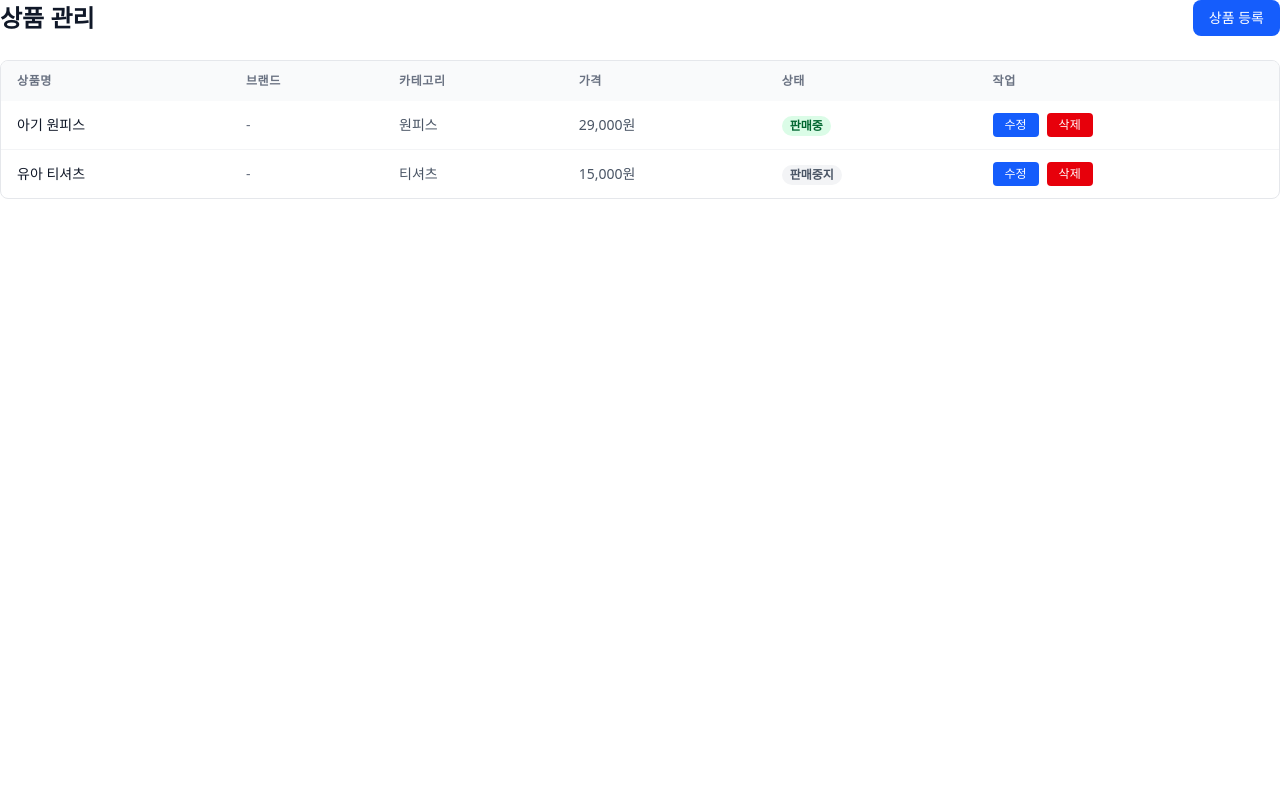
Test: AdminProductsPage › 상품 등록 폼 › 기본 가격이 비어 있으면 유효성 오류를 표시한다
Click the button "상품 등록".
click(1236, 18)  # box [1193, 0, 1279, 36]
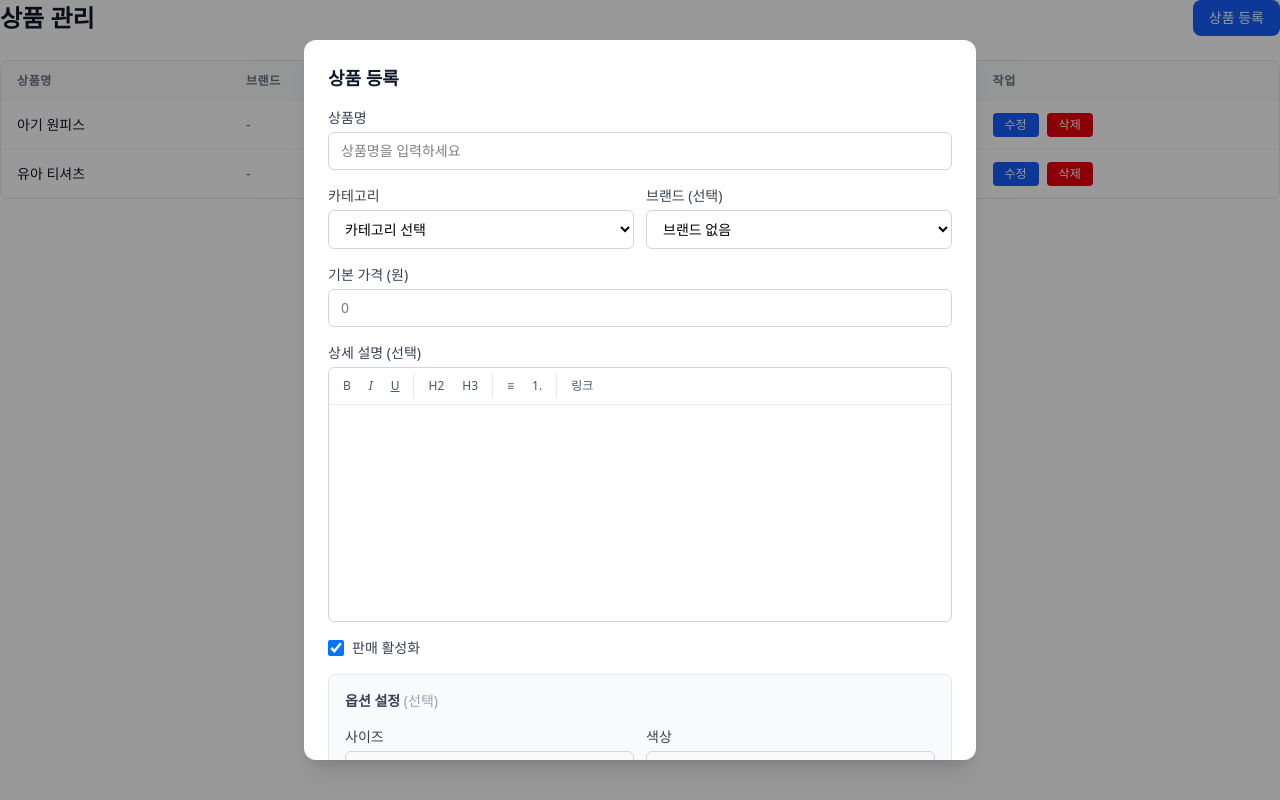
Type "테스트 상품" into the field labelled "상품명".
click(640, 151); type("테스트 상품")  # box [328, 132, 952, 170]
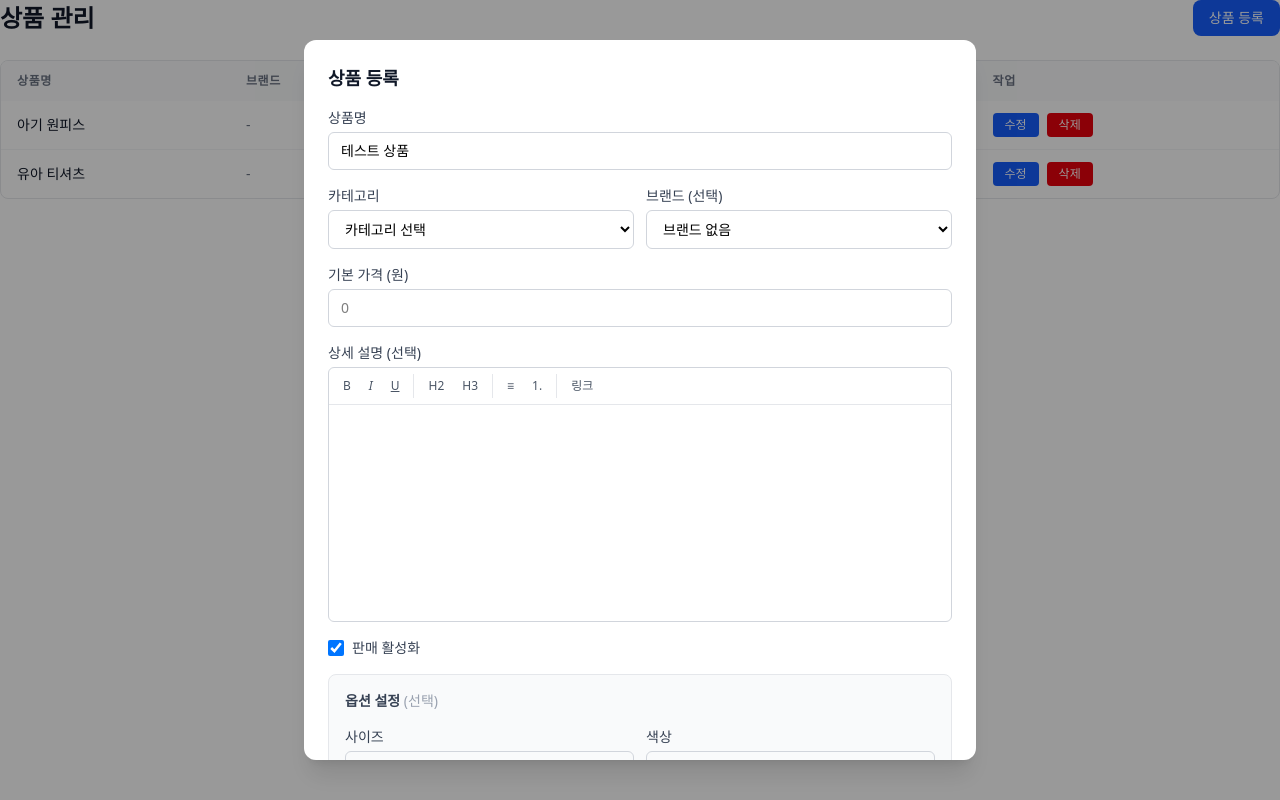
Select "원피스" in the dropdown labelled "카테고리" at (481, 230), box [328, 210, 634, 249]
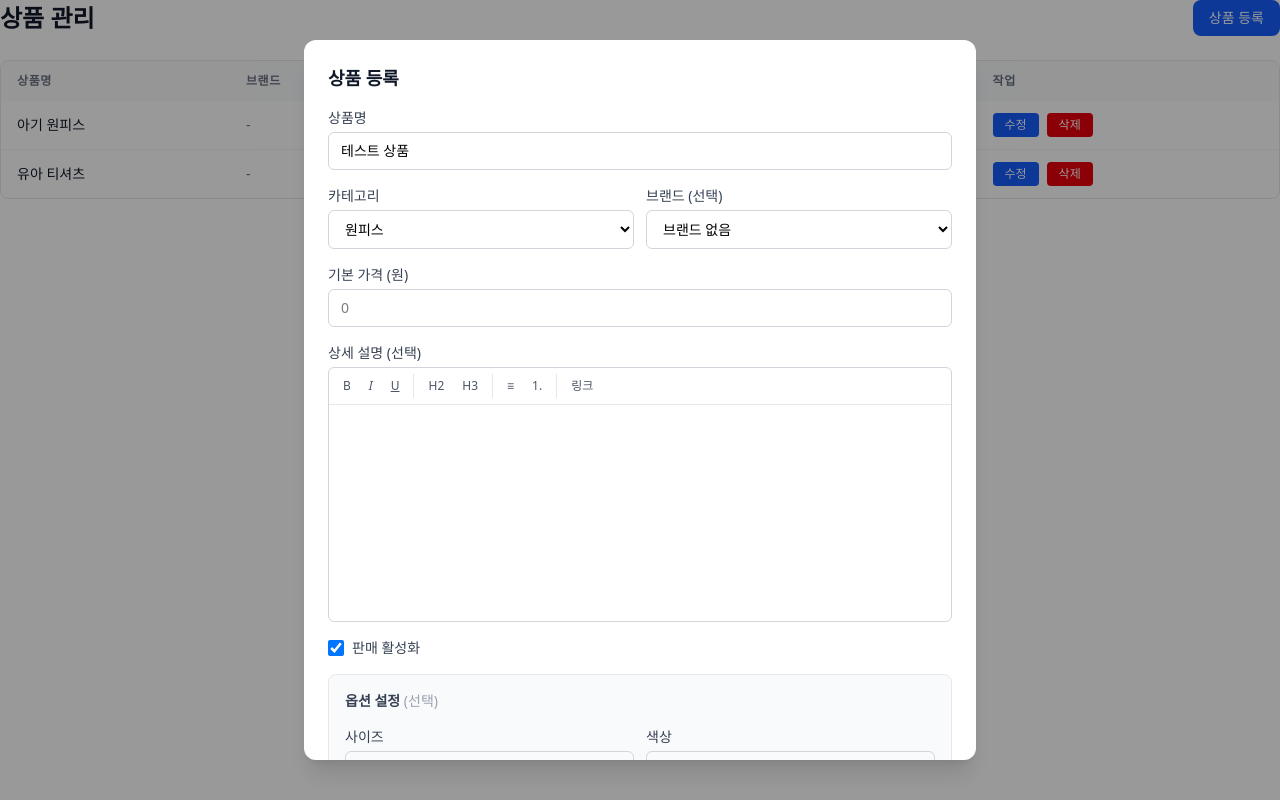
Clear the number field labelled "기본 가격 (원)" at (640, 308), box [328, 289, 952, 327]
(page scrolled)
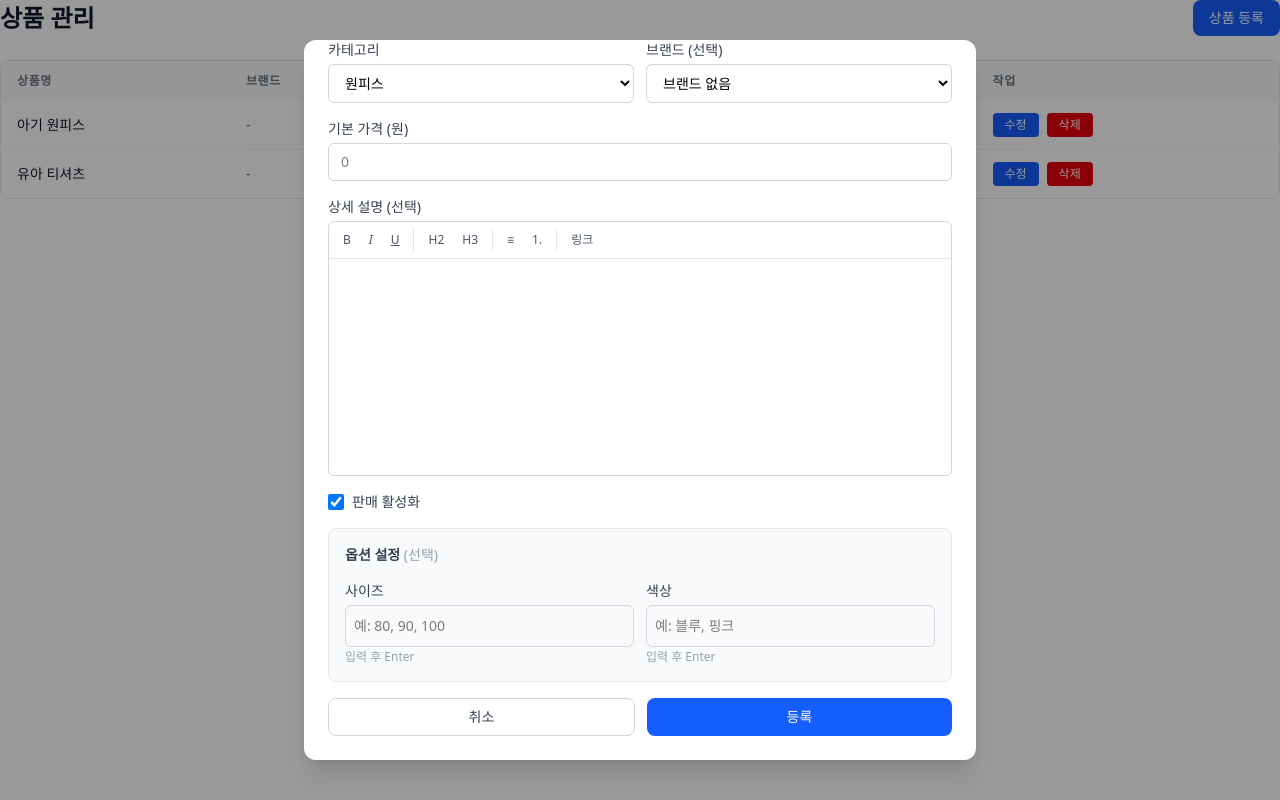
Click the button "등록".
click(800, 717)  # box [647, 698, 952, 736]
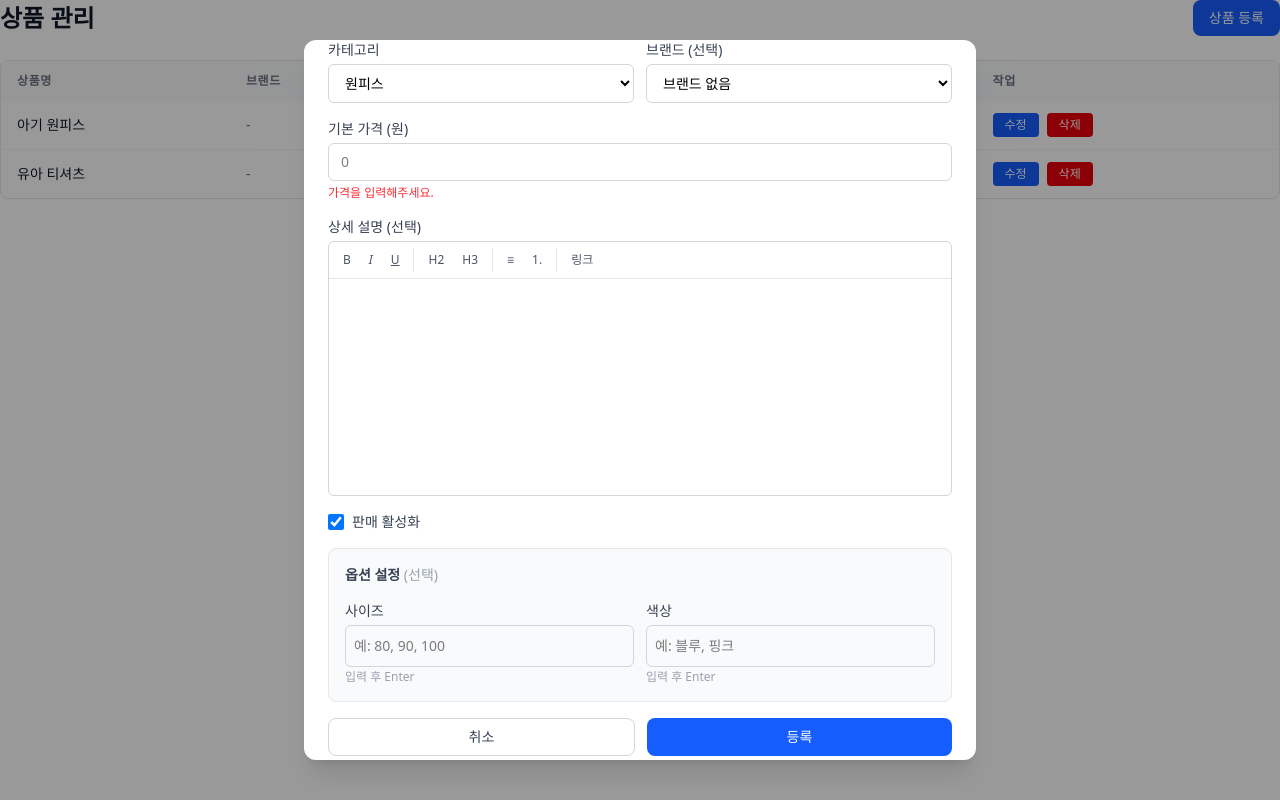
Check: the text "가격을 입력해주세요." is shown, box [328, 184, 434, 201]
